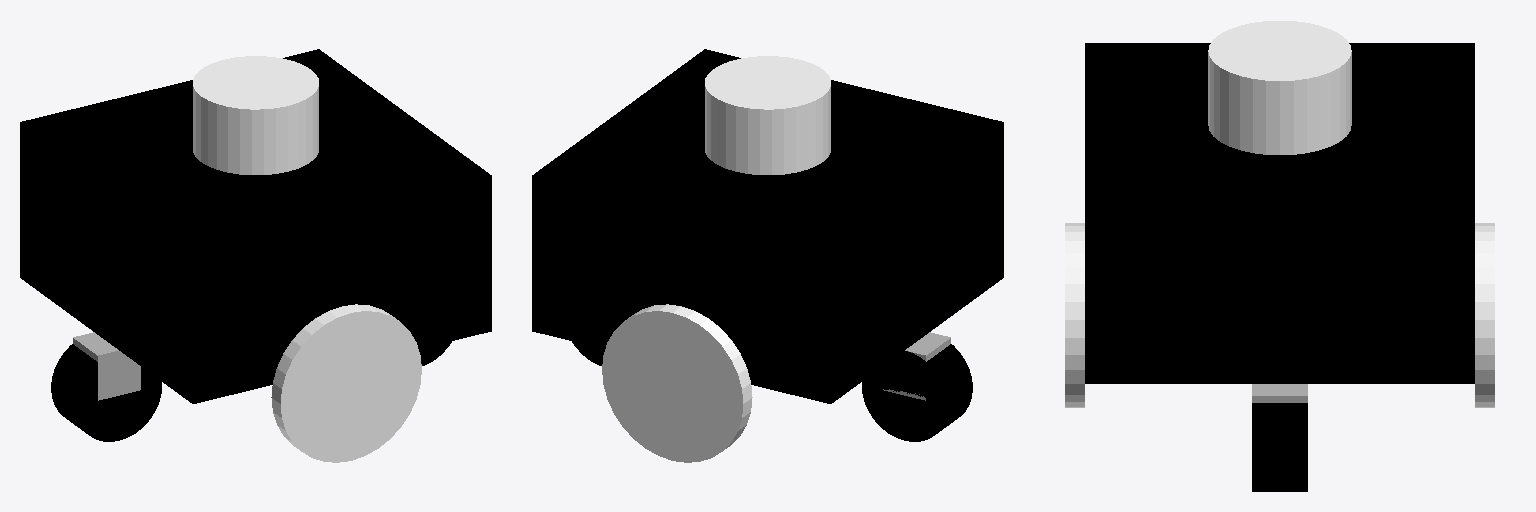
robot.urdf — nuc_bot:
<?xml version="1.0"?>
<robot name="nuc_bot">

  <material name="blue">
    <color rgba="0 0 0.8 1"/>
  </material>

  <material name="white">
    <color rgba="1 1 1 1"/>
  </material>

  <material name="black">
    <color rgba="0 0 0 1"/>
  </material>

  <material name="silver">
    <color rgba=".75 .75 .75 1"/>
  </material>
  
  <link name="base_link">
    <visual>
      <geometry>
        <box size=".190 .190 .095"/>
      </geometry>
      <material name="black"/>
    </visual>
    <collision>
      <geometry>
        <box size=".190 .190 .095"/>
      </geometry>
    </collision>
    <inertial>
      <mass value="1.0"/>
      <inertia ixx="0.015" iyy="0.0375" izz="0.0375"
                ixy="0" ixz="0" iyz="0"/>
    </inertial>
  </link>

  <link name="front_caster">
    <visual>
      <geometry>
        <box size=".0275 .0275 .0275"/>
      </geometry>
      <material name="silver"/>
    </visual>
    <collision>
      <geometry>
        <box size=".0275 .0275 .0275"/>
      </geometry>
    </collision>
    <inertial>
      <mass value=".1"/>
      <inertia ixx="0.00083" iyy="0.00083" izz="0.000167"
                ixy="0" ixz="0" iyz="0"/>
    </inertial>
  </link>

  <link name="front_wheel">
    <visual>
      <geometry>
        <cylinder length=".0275" radius=".0275"/>
      </geometry>
      <material name="black"/>
    </visual>
    <collision>
      <geometry>
        <cylinder length=".0275" radius=".0275"/>
      </geometry>
    </collision>
    <inertial>
      <mass value=".1"/>
      <inertia ixx="5.1458e-5" iyy="5.1458e-5" izz="6.125e-5"
                ixy="0" ixz="0" iyz="0"/>
    </inertial>
  </link>
  

  <link name="rear_caster">
    <visual>
      <geometry>
        <box size=".0275 .0275 .0275"/>
      </geometry>
      <material name="silver"/>
    </visual>
    <collision>
      <geometry>
        <box size=".0275 .0275 .0275"/>
      </geometry>
    </collision>
    <inertial>
      <mass value=".1"/>
      <inertia ixx="0.00083" iyy="0.00083" izz="0.000167"
                ixy="0" ixz="0" iyz="0"/>
    </inertial>
  </link>

  <link name="rear_wheel">
    <visual>
      <geometry>
        <cylinder length=".0275" radius=".0275"/>
      </geometry>
      <material name="black"/>
    </visual>
    <collision>
      <geometry>
        <cylinder length=".0275" radius=".0275"/>
      </geometry>
    </collision>
    <inertial>
      <mass value=".1"/>
      <inertia ixx="5.1458e-5" iyy="5.1458e-5" izz="6.125e-5"
                ixy="0" ixz="0" iyz="0"/>
    </inertial>
  </link>
  
  <link name="laser">
    <visual>
      <geometry>
        <cylinder length=".040" radius=".035"/>
      </geometry>
      <material name="white"/>
    </visual>
    <collision>
      <geometry>
        <cylinder length=".040" radius=".035"/>
      </geometry>
    </collision>
  </link>

  <link name="right_wheel">
    <visual>
      <geometry>
        <cylinder length=".010" radius=".045"/>
      </geometry>
      <material name="white"/>
    </visual>
    <collision>
      <geometry>
        <cylinder length=".010" radius=".045"/>
      </geometry>
    </collision>
    <inertial>
      <mass value=".1"/>
      <inertia ixx="5.1458e-5" iyy="5.1458e-5" izz="6.125e-5"
                ixy="0" ixz="0" iyz="0"/>
    </inertial>
  </link>

  <link name="left_wheel">
    <visual>
      <geometry>
        <cylinder length=".010" radius=".045"/>
      </geometry>
      <material name="white"/>
    </visual>
    <collision>
      <geometry>
        <cylinder length=".010" radius=".045"/>
      </geometry>
    </collision>
    <inertial>
      <mass value=".1"/>
      <inertia ixx="5.1458e-5" iyy="5.1458e-5" izz="6.125e-5"
                ixy="0" ixz="0" iyz="0"/>
    </inertial>
  </link>

  <joint name="right_wheel_joint" type="continuous">
    <axis xyz="0 0 1"/>
    <parent link="base_link"/>
    <child link="right_wheel"/>
    <origin rpy="1.5708 0 0" xyz="0 -.1 -.055"/>
  </joint>

  <joint name="left_wheel_joint" type="continuous">
    <axis xyz="0 0 1"/>
    <parent link="base_link"/>
    <child link="left_wheel"/>
    <origin rpy="-1.5708 0 0" xyz="0 .1 -.055"/>
  </joint>

  <joint name="front_caster_joint" type="continuous">
    <axis xyz="0 0 1"/>
    <parent link="base_link"/>
    <child link="front_caster"/>
    <origin rpy="0 0 0" xyz=".095 0 -.06125"/>
  </joint>

  <joint name="front_wheel_joint" type="continuous">
    <axis xyz="0 0 1"/>
    <parent link="front_caster"/>
    <child link="front_wheel"/>
    <origin rpy="-1.5708 0 0" xyz="0 0 -0.01375"/>
  </joint>

  <joint name="rear_caster_joint" type="continuous">
    <axis xyz="0 0 1"/>
    <parent link="base_link"/>
    <child link="rear_caster"/>
    <origin rpy="0 0 0" xyz="-.095 0 -.06125"/>
  </joint>

  <joint name="rear_wheel_joint" type="continuous">
    <axis xyz="0 0 1"/>
    <parent link="rear_caster"/>
    <child link="rear_wheel"/>
    <origin rpy="-1.5708 0 0" xyz="0 0 -0.01375"/>
  </joint>
 
  <joint name="robot_body_to_laser" type="continuous">
    <axis xyz="0 0 1"/>
    <parent link="base_link"/>
    <child link="laser"/>
    <origin rpy="0 0 0" xyz="0 0 .0675"/>
  </joint>

  
</robot>

--- Render facts (derived) ---
3 views of the same robot in one strip: view 1: azimuth 30°, elevation 25°; view 2: azimuth 150°, elevation 25°; view 3: azimuth 270°, elevation 25° (orthographic).
Model nuc_bot with 8 links and 7 joints (7 continuous), rooted at base_link, posed all joints at 0.
Visible links, largest first — view 1: base_link, right_wheel, laser, rear_wheel, rear_caster; view 2: base_link, left_wheel, laser, rear_wheel, rear_caster; view 3: base_link, laser, front_wheel, right_wheel, left_wheel, front_caster.
Link boxes in pixels (x1=…): base_link: x1=20, y1=49, x2=491, y2=403; right_wheel: x1=271, y1=304, x2=421, y2=462; laser: x1=193, y1=56, x2=318, y2=174; rear_wheel: x1=51, y1=344, x2=161, y2=441; rear_caster: x1=73, y1=332, x2=140, y2=400; base_link: x1=532, y1=49, x2=1003, y2=403; left_wheel: x1=602, y1=304, x2=752, y2=462; laser: x1=705, y1=56, x2=830, y2=174; rear_wheel: x1=862, y1=344, x2=972, y2=441; rear_caster: x1=883, y1=332, x2=950, y2=400; base_link: x1=1085, y1=43, x2=1474, y2=383; laser: x1=1208, y1=21, x2=1351, y2=154; front_wheel: x1=1252, y1=403, x2=1307, y2=491; right_wheel: x1=1065, y1=223, x2=1084, y2=407; left_wheel: x1=1475, y1=223, x2=1494, y2=407; front_caster: x1=1252, y1=384, x2=1307, y2=402.
Bounding box of the posed robot: 0.245 × 0.21 × 0.19 m (x, y, z).
Geometry: primitives only (box / cylinder / sphere), no mesh files.